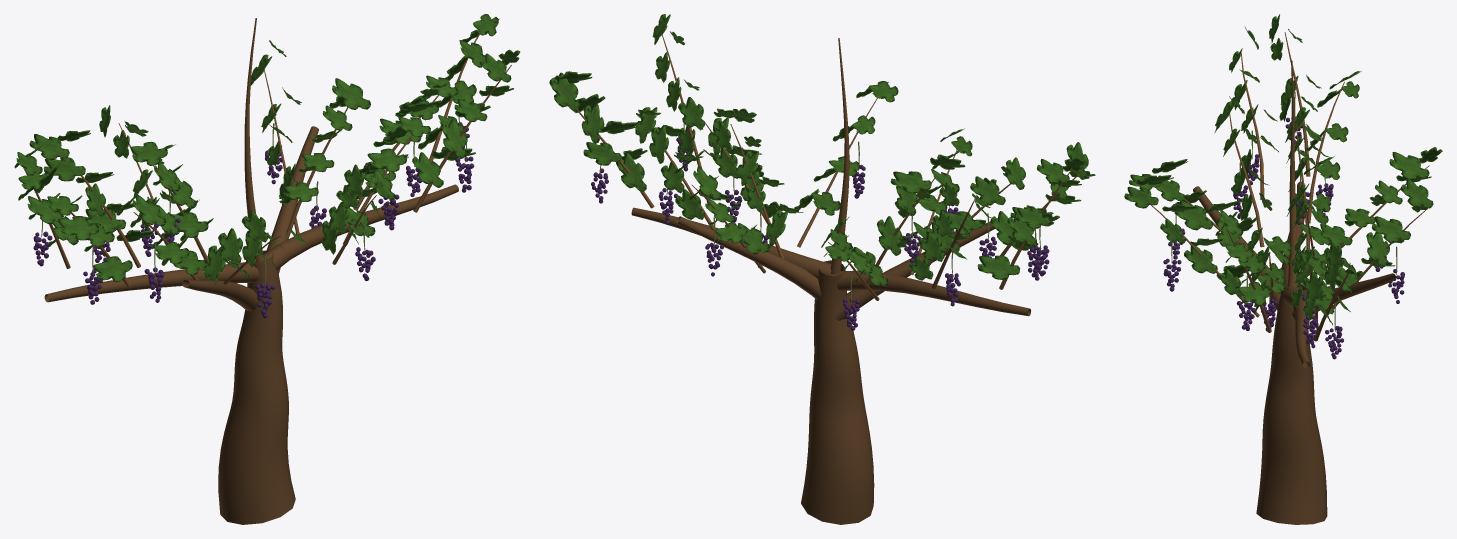
Rendered from grape_vine_tree.glb.
3 views of the same model, side by side, from view 1: azimuth 30°, elevation 25°; view 2: azimuth 150°, elevation 25°; view 3: azimuth 270°, elevation 25° (orthographic). The views are drawn at different scales.
Parts seen in each view (by area): view 1: VineLeaves, VineWood, GrapeBerries; view 2: VineLeaves, VineWood, GrapeBerries; view 3: VineLeaves, VineWood, GrapeBerries, GrapeStems.
Part boxes in pixels (x1,y1,x2,y2): VineLeaves: (14,14,520,284); VineWood: (23,18,511,524); GrapeBerries: (33,122,474,318); VineLeaves: (549,14,1095,286); VineWood: (559,35,1077,524); GrapeBerries: (591,137,1049,330); VineLeaves: (1124,14,1442,325); VineWood: (1151,32,1429,524); GrapeBerries: (1163,116,1404,359); GrapeStems: (1171,92,1397,331).
Size of the model in its own units: 3.04 by 2.75 by 1.73.
Materials: 5 (1 with a texture image).
